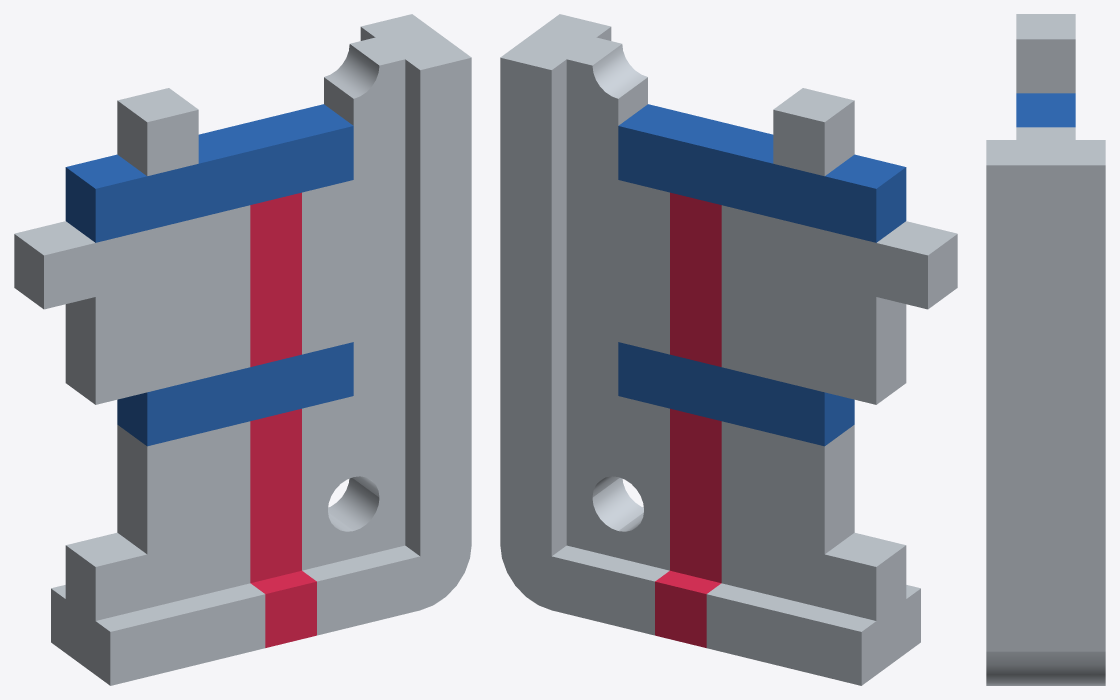
File: Broken Paper2.fbx
The picture shows the model from 3 angles, left to right: view 1: azimuth 30°, elevation 25°; view 2: azimuth 150°, elevation 25°; view 3: azimuth 270°, elevation 25°; orthographic projection.
Visible parts, largest first — view 1: generated; view 2: generated; view 3: generated.
Part boxes in pixels (bbox=[...]): generated: bbox=[14, 14, 471, 685]; generated: bbox=[500, 14, 957, 685]; generated: bbox=[986, 14, 1105, 685].
Size of the model in its own units: 80 by 100 by 20.
